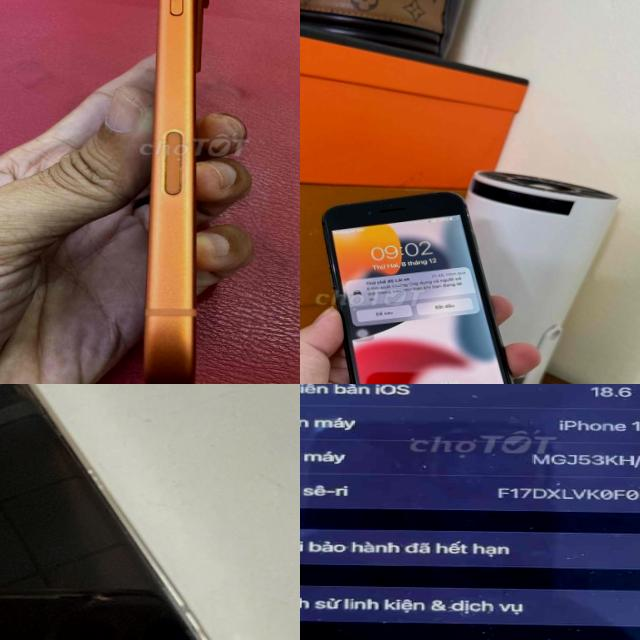gen_12_13: (300, 384, 640, 640), (316, 189, 522, 384)
gen_14: (0, 384, 237, 640)
gen_17: (128, 0, 252, 384)
